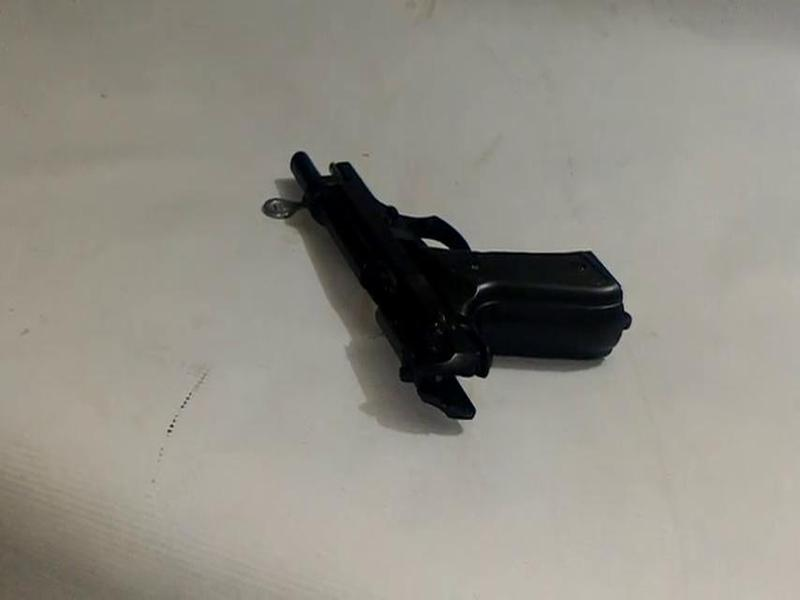Pistola: (282, 104, 651, 466)
